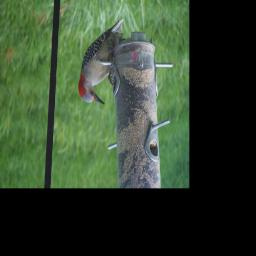Woodpecker: (79, 16, 125, 105)
